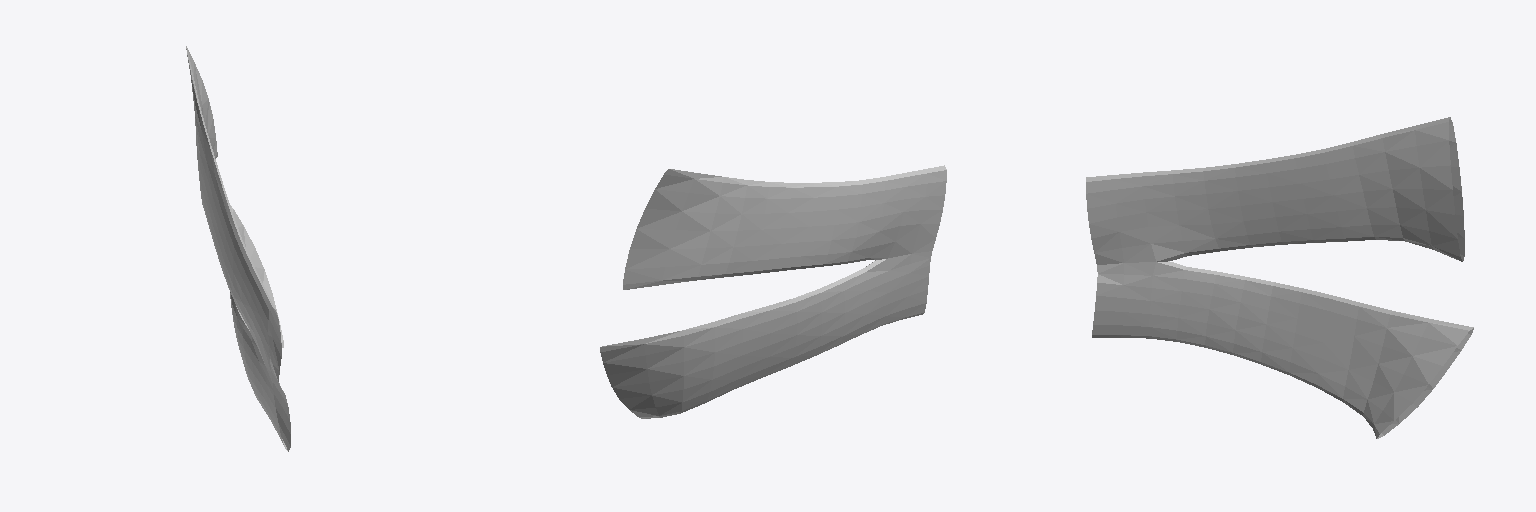
The model's file is posterior_auricular_right.obj.
3 views of the same model, side by side, from view 1: azimuth 30°, elevation 25°; view 2: azimuth 150°, elevation 25°; view 3: azimuth 270°, elevation 25° (orthographic).
Visible parts, largest first — view 1: Posterior_Auricular_Muscle_Right; view 2: Posterior_Auricular_Muscle_Right; view 3: Posterior_Auricular_Muscle_Right.
Boxes of the visible parts, x1,y1,x2,y2 form: Posterior_Auricular_Muscle_Right: [186, 46, 290, 451]; Posterior_Auricular_Muscle_Right: [600, 165, 946, 418]; Posterior_Auricular_Muscle_Right: [1086, 117, 1473, 438].
Bounding box in the file's own units: 0.1267 × 0.213 × 0.2565.